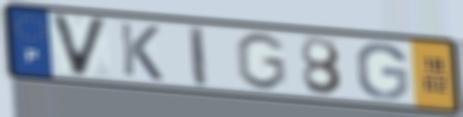8: (298, 35, 345, 97)
G: (353, 41, 411, 102), (233, 31, 289, 93)
I: (186, 23, 211, 89)
K: (116, 20, 166, 83)
V: (47, 12, 111, 80)
